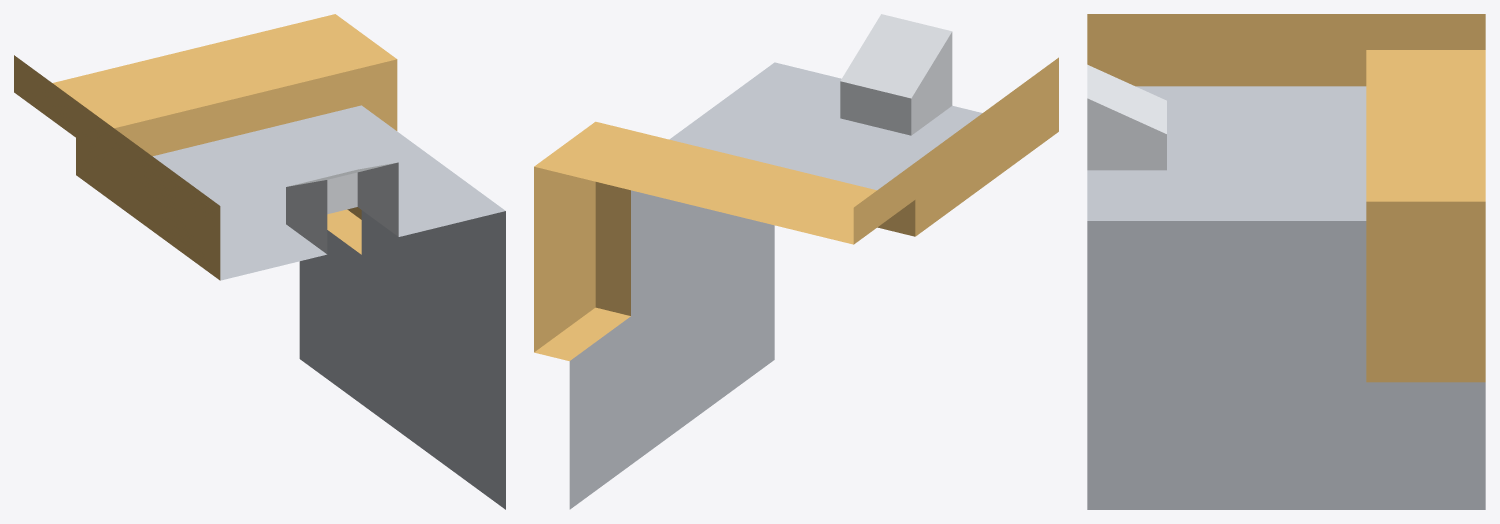
3 renders of one model, left to right at view 1: azimuth 30°, elevation 25°; view 2: azimuth 150°, elevation 25°; view 3: azimuth 270°, elevation 25°, orthographic. The views are drawn at different scales.
Bounding box in the file's own units: 0.9 × 1 × 1.
